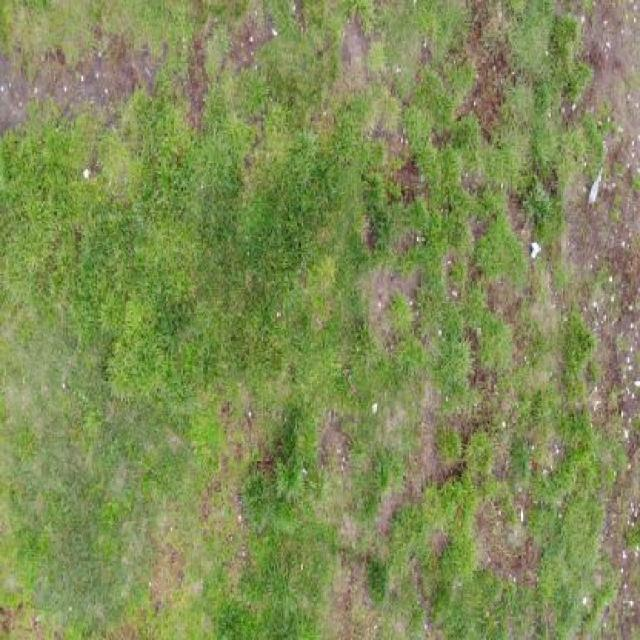Garbage: (587, 164, 604, 205), (530, 239, 539, 259), (519, 505, 526, 522)
